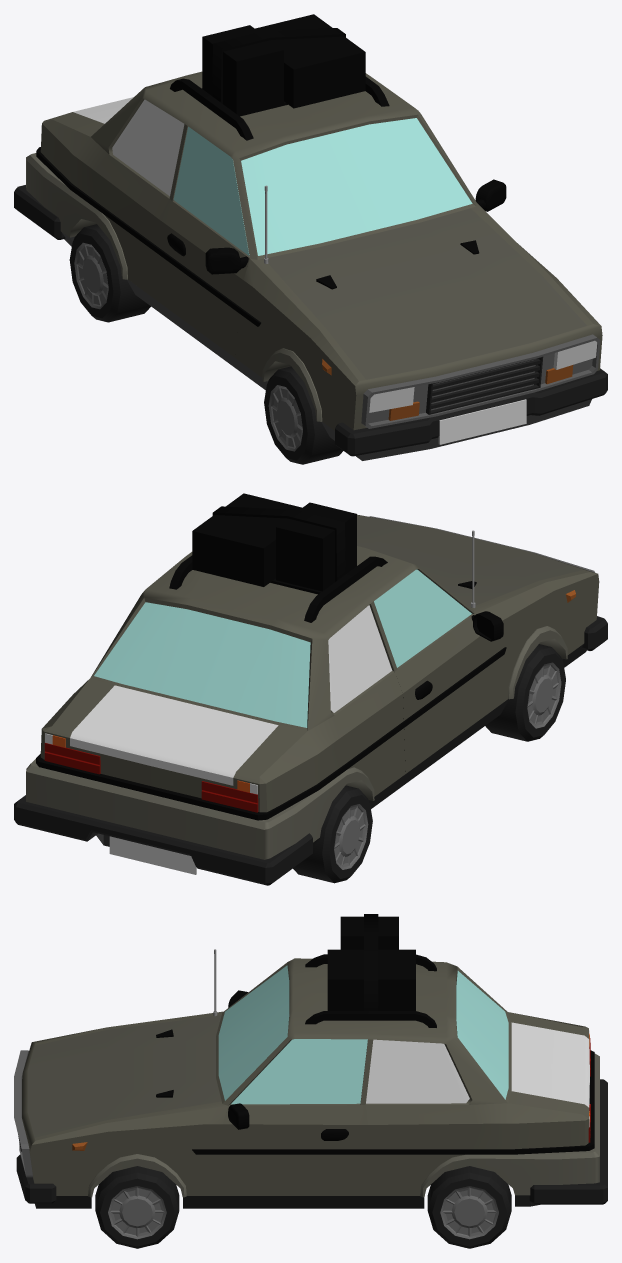
Rendered from SM_Car.fbx.
The picture shows the model from 3 angles, top to bottom: view 1: azimuth 30°, elevation 25°; view 2: azimuth 150°, elevation 25°; view 3: azimuth 270°, elevation 25°; orthographic projection. The views are drawn at different scales.
Parts seen in each view (by area): view 1: SM_Chassis, SM_Hood, SM_RDoor, SM_RearRWheel, SM_FrontRWheel, SM_LDoor, SM_Trunk; view 2: SM_Chassis, SM_RDoor, SM_Trunk, SM_Hood, SM_FrontRWheel, SM_RearRWheel; view 3: SM_Chassis, SM_LDoor, SM_Hood, SM_RearLWheel, SM_FrontLWheel, SM_Trunk.
Part boxes in pixels (box(x1,y1,x2,y2)): SM_Chassis: box(14, 14, 607, 460); SM_Hood: box(268, 208, 586, 379); SM_RDoor: box(158, 124, 249, 357); SM_RearRWheel: box(69, 224, 150, 322); SM_FrontRWheel: box(264, 366, 343, 464); SM_LDoor: box(475, 179, 506, 211); SM_Trunk: box(73, 97, 133, 123); SM_Chassis: box(14, 493, 607, 885); SM_RDoor: box(369, 569, 503, 773); SM_Trunk: box(70, 685, 278, 785); SM_Hood: box(357, 516, 583, 607); SM_FrontRWheel: box(485, 644, 565, 741); SM_RearRWheel: box(293, 785, 372, 883); SM_Chassis: box(14, 914, 607, 1208); SM_LDoor: box(223, 1039, 373, 1195); SM_Hood: box(27, 1015, 221, 1137); SM_RearLWheel: box(427, 1166, 511, 1248); SM_FrontLWheel: box(95, 1166, 179, 1248); SM_Trunk: box(511, 1022, 589, 1107).
Bounding box in the file's own units: 226 × 216 × 454.
